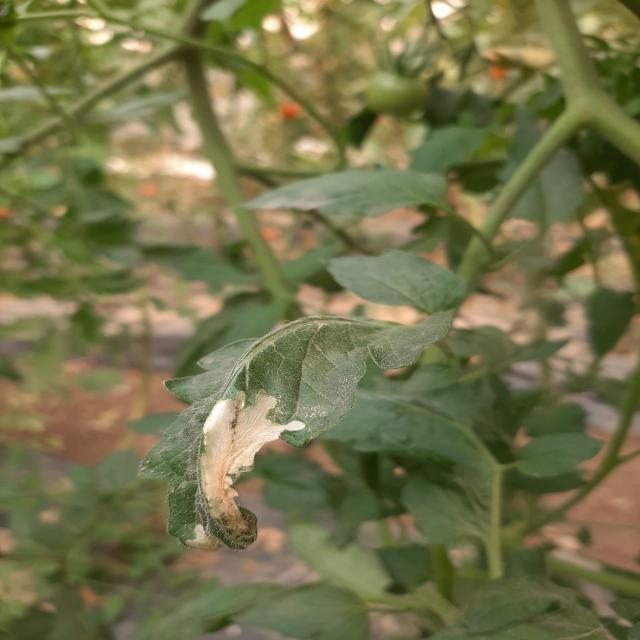Tuta absoluta: (164, 373, 311, 544), (183, 522, 226, 563)
